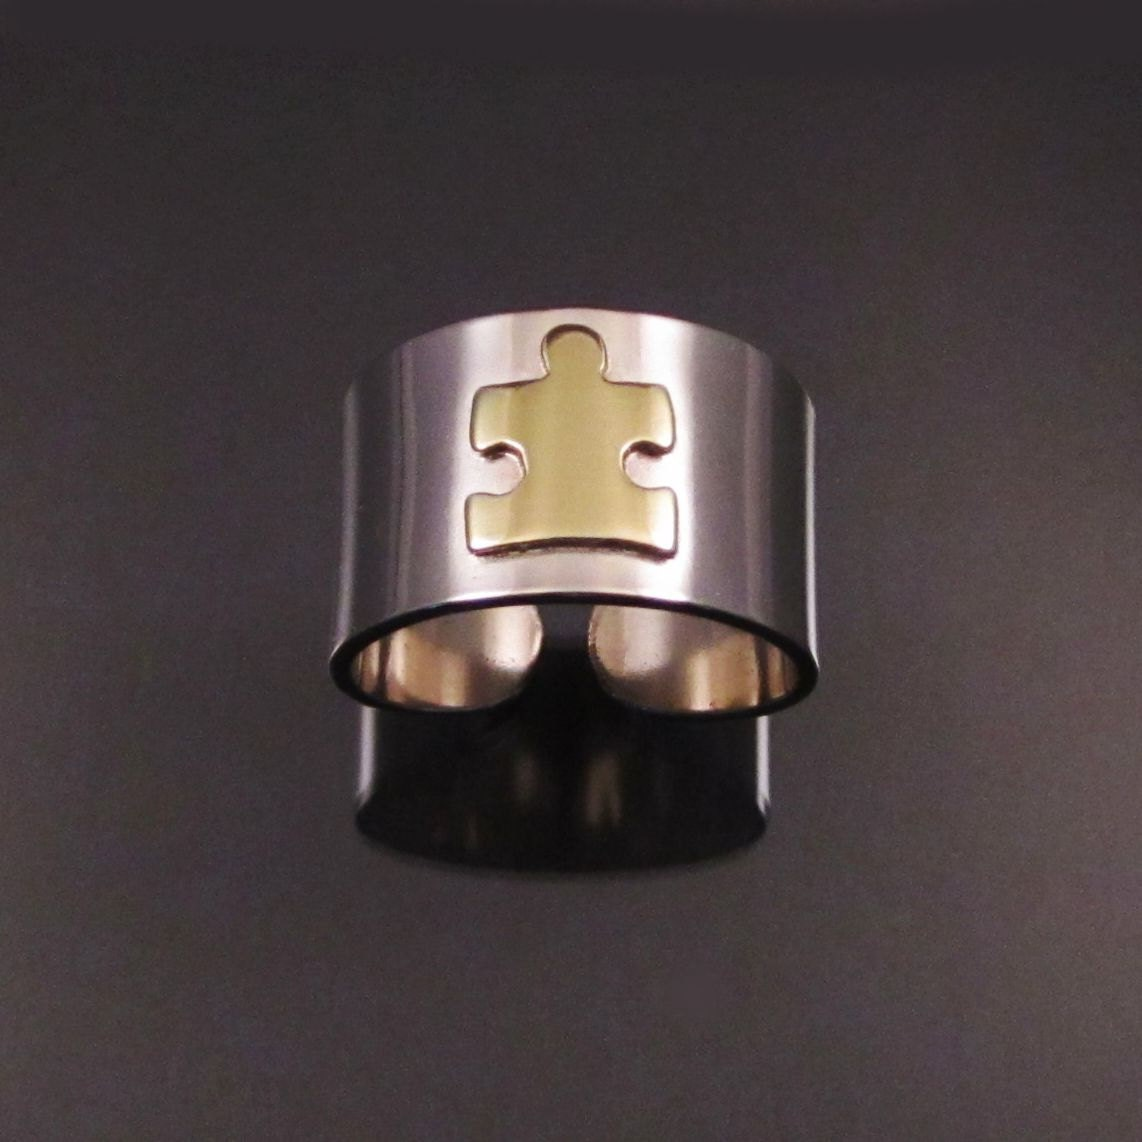puzzle piece: (463, 318, 706, 562)
